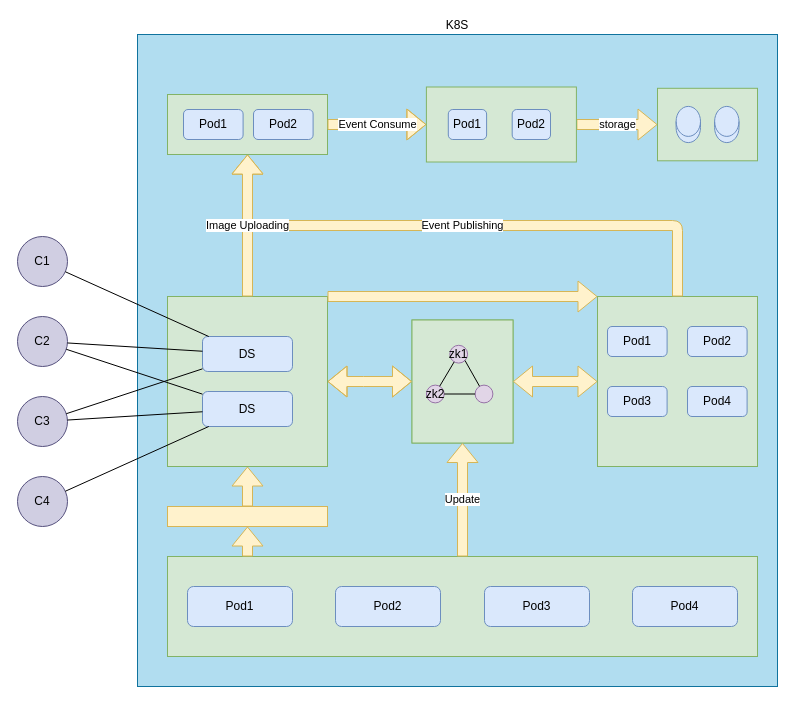
Image size: 795x704. Some labels were removed from this diagram. The box of each missing label's shape, as (x1, y1, x2, y2) in pixels:
DS Cluister: (166, 296, 328, 466)
K8S API: (166, 506, 328, 526)
Management Cluster: (166, 556, 758, 656)
Monitor Center: (425, 86, 576, 162)
MySql: (656, 87, 758, 161)
RocketMQ: (166, 94, 328, 154)
zk3: (474, 384, 493, 403)
Zookeeper: (411, 319, 513, 443)
策略服务模块集群: (596, 296, 758, 466)
